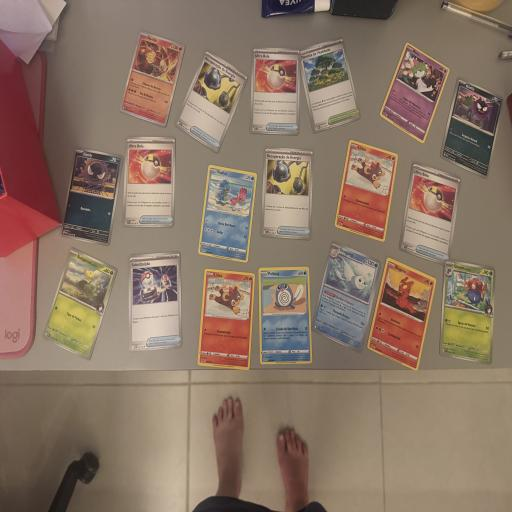card: (40, 247, 120, 361), (169, 49, 254, 154), (364, 256, 440, 371), (309, 240, 384, 354), (375, 41, 455, 144), (437, 77, 508, 180), (333, 139, 401, 242), (118, 30, 188, 128), (398, 161, 463, 263), (59, 147, 125, 247), (298, 36, 362, 134), (438, 259, 497, 365), (197, 268, 257, 371), (197, 164, 259, 263), (128, 250, 182, 352), (258, 267, 312, 365), (122, 136, 177, 229), (260, 147, 315, 240), (250, 47, 301, 136)
